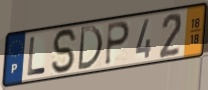2: (158, 12, 184, 61)
4: (135, 17, 153, 60)
D: (76, 25, 105, 72)
L: (26, 35, 47, 77)
P: (103, 20, 132, 67)
S: (50, 27, 79, 76)
